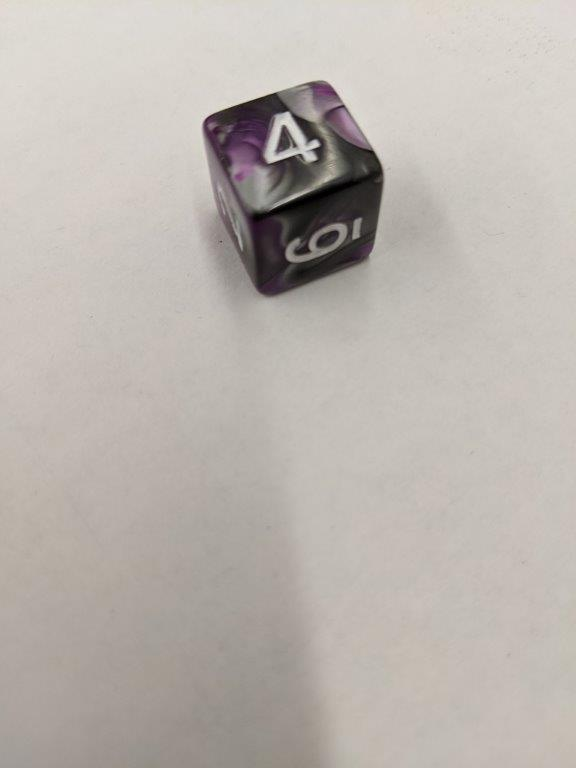d6-4: (201, 79, 384, 294)
